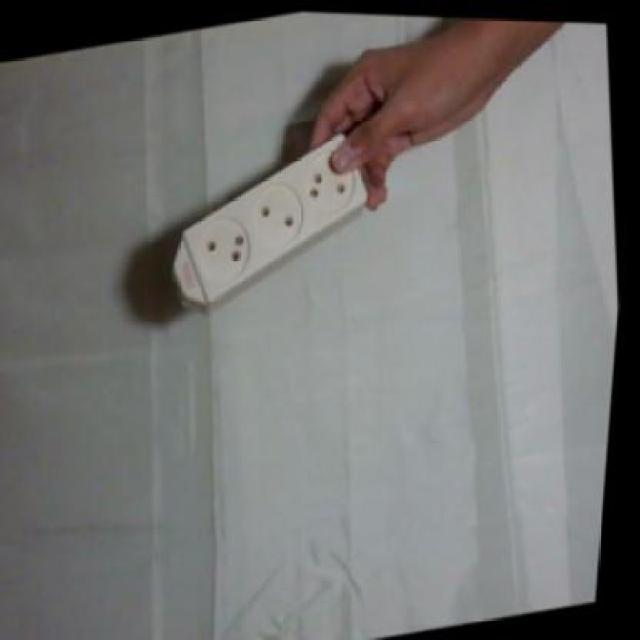Plastic: (173, 137, 371, 330)
